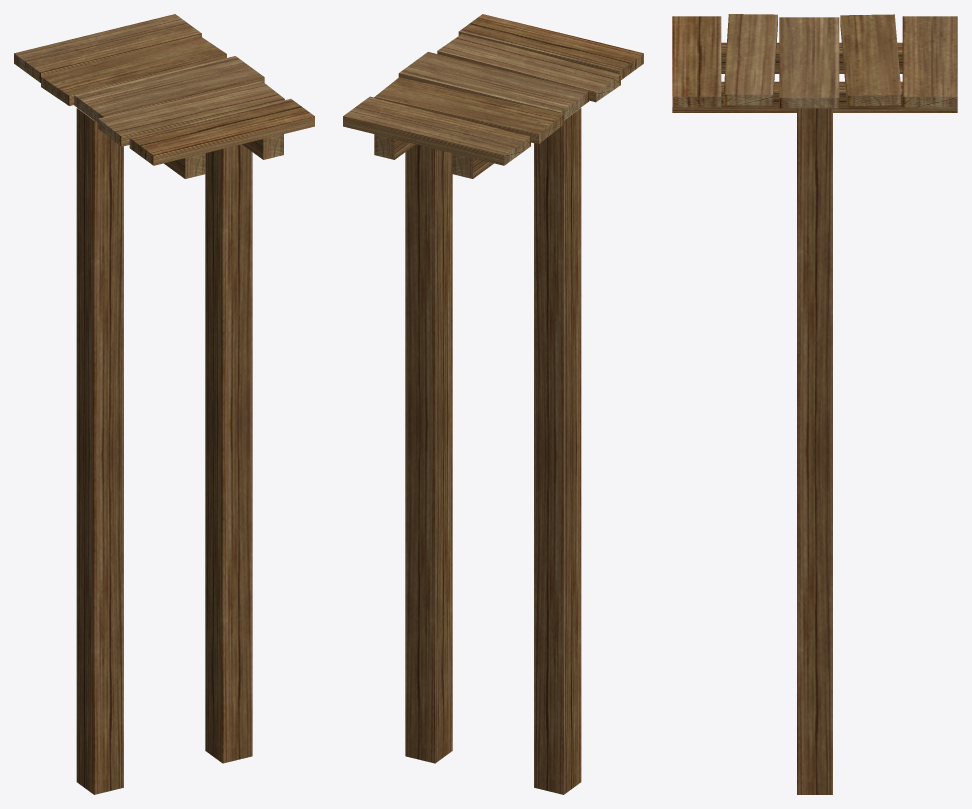
File: BridgeWoodClimb01.FBX
3 renders of one model, left to right at view 1: azimuth 30°, elevation 25°; view 2: azimuth 150°, elevation 25°; view 3: azimuth 270°, elevation 25°, orthographic. The views are drawn at different scales.
Visible parts, largest first — view 1: Poles, BridgeWoodClimb01; view 2: Poles, BridgeWoodClimb01; view 3: BridgeWoodClimb01, Poles.
Part boxes in pixels (x1,y1,x2,y2): Poles: (76,108,252,794); BridgeWoodClimb01: (14,14,314,178); Poles: (405,108,581,794); BridgeWoodClimb01: (343,14,643,178); BridgeWoodClimb01: (672,14,957,112); Poles: (797,108,832,794).
Size of the model in its own units: 192 by 745 by 276.
